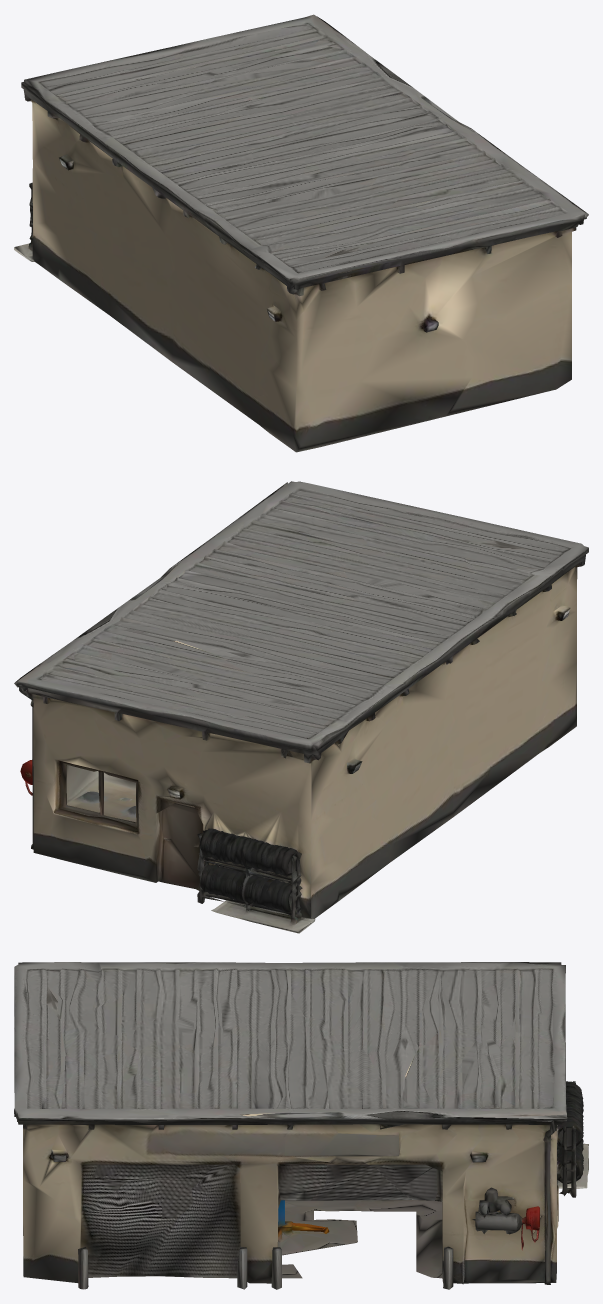
Rendered from workshop.glb.
3 renders of one model, top to bottom at view 1: azimuth 30°, elevation 25°; view 2: azimuth 150°, elevation 25°; view 3: azimuth 270°, elevation 25°, orthographic.
Visible parts, largest first — view 1: tripo_node_775ffc7f-b70a-4cc6-91ed-0b66fb0ca2ed; view 2: tripo_node_775ffc7f-b70a-4cc6-91ed-0b66fb0ca2ed; view 3: tripo_node_775ffc7f-b70a-4cc6-91ed-0b66fb0ca2ed.
Boxes of the visible parts, x1,y1,x2,y2 form: tripo_node_775ffc7f-b70a-4cc6-91ed-0b66fb0ca2ed: (14, 14, 588, 452); tripo_node_775ffc7f-b70a-4cc6-91ed-0b66fb0ca2ed: (14, 481, 588, 933); tripo_node_775ffc7f-b70a-4cc6-91ed-0b66fb0ca2ed: (14, 962, 588, 1289).
Bounding box in the file's own units: 0.6236 × 0.3472 × 0.999.
1 material, 1 textured.
